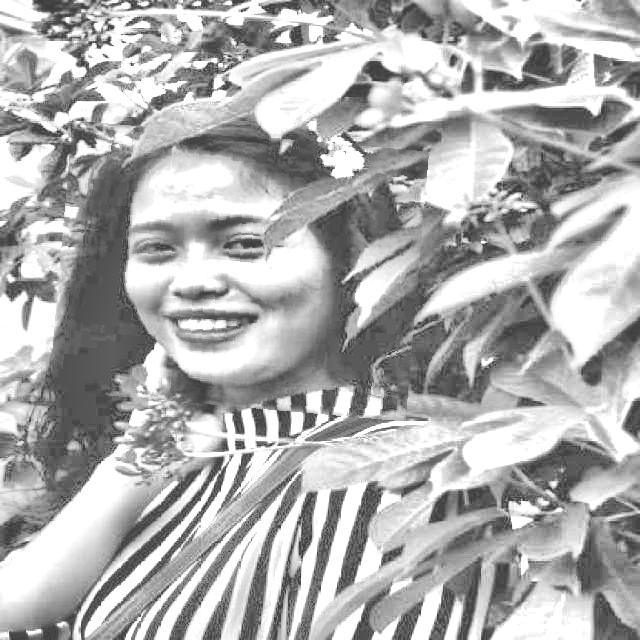happy: (54, 128, 424, 414)
